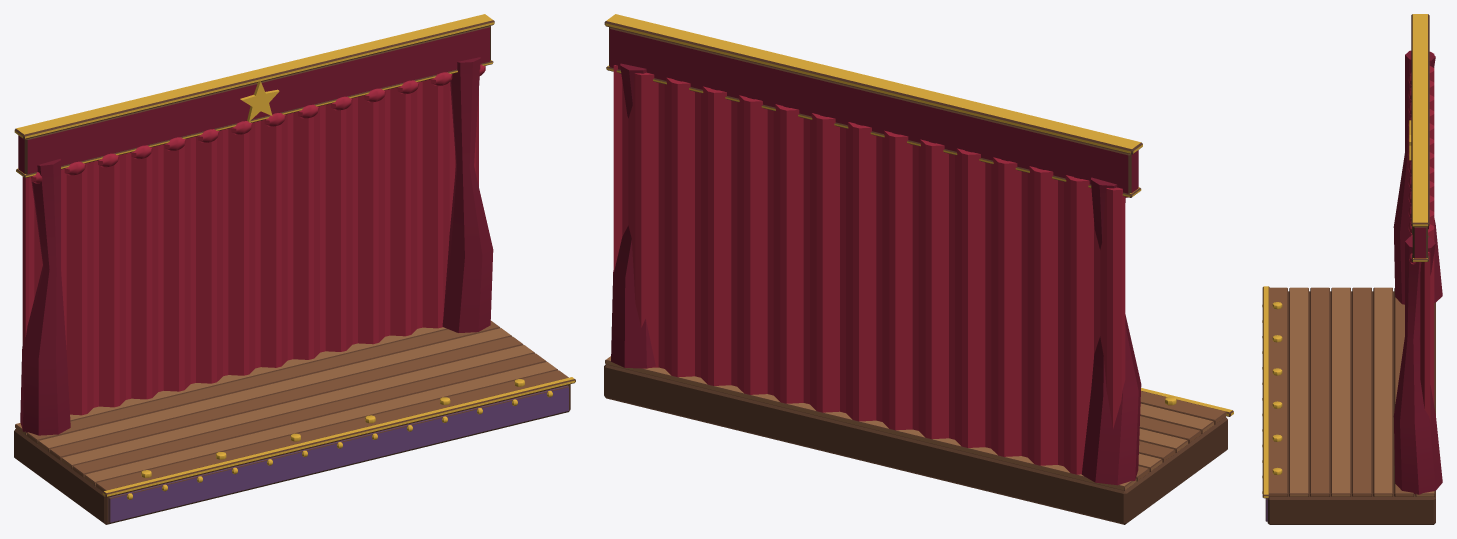
The model's file is chairs_stage.glb.
The picture shows the model from 3 angles, left to right: view 1: azimuth 30°, elevation 25°; view 2: azimuth 150°, elevation 25°; view 3: azimuth 270°, elevation 25°; orthographic projection. The views are drawn at different scales.
Parts seen in each view (by area): view 1: chairs_stage; view 2: chairs_stage; view 3: chairs_stage.
Boxes of the visible parts, x1=… form: chairs_stage: x1=14, y1=14, x2=575, y2=524; chairs_stage: x1=604, y1=14, x2=1233, y2=524; chairs_stage: x1=1262, y1=14, x2=1442, y2=524.
Bounding box in the file's own units: 7.08 × 4.78 × 2.58.
